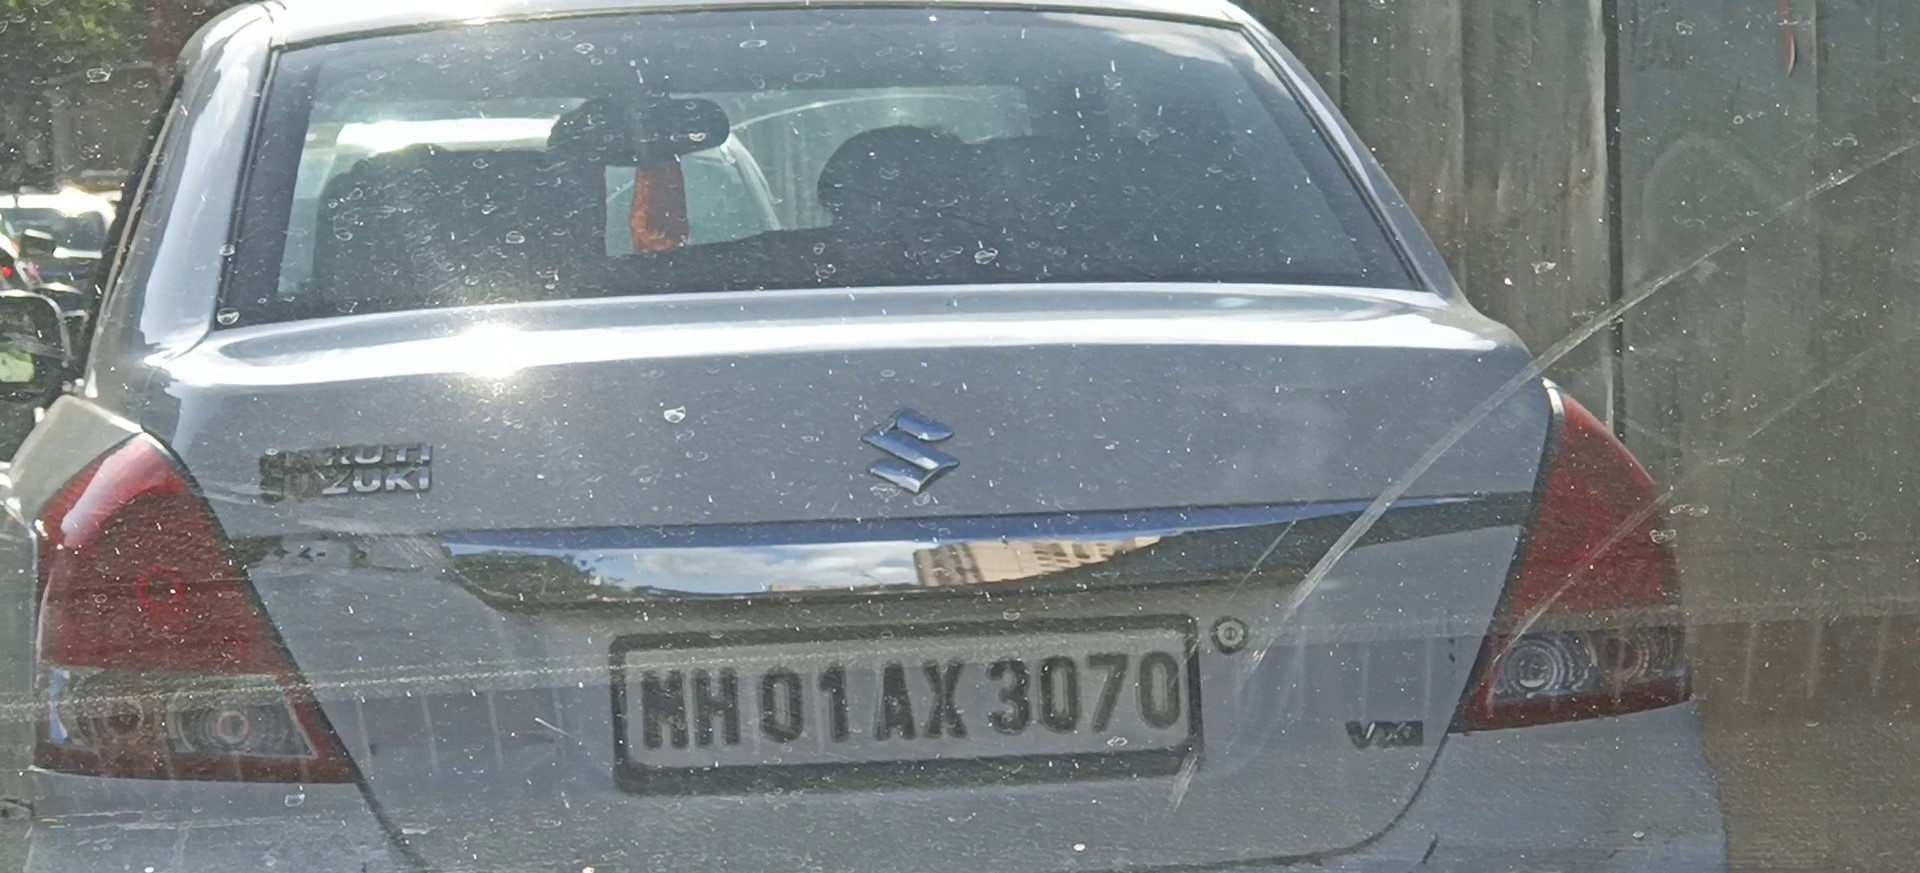MH01AX3070: (623, 628, 1187, 768)
